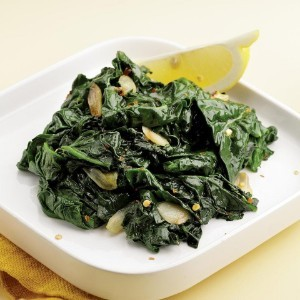spinach_brain food: (64, 75, 183, 220)
